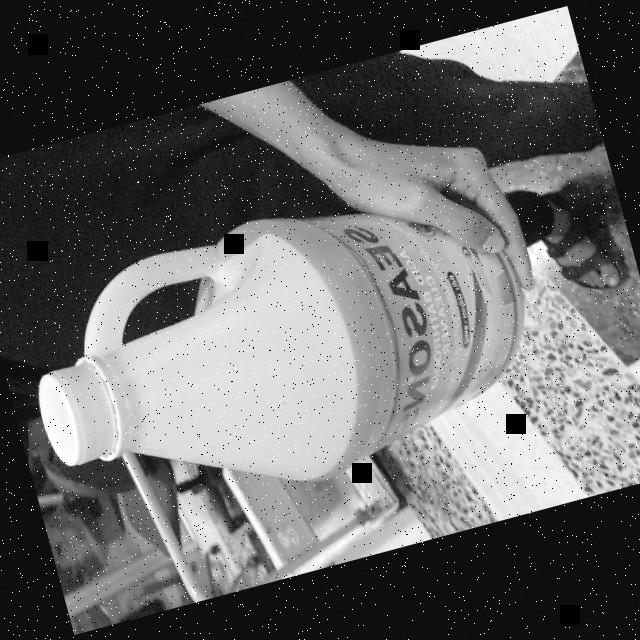chemical_plastic_gallon: (5, 164, 552, 548)
